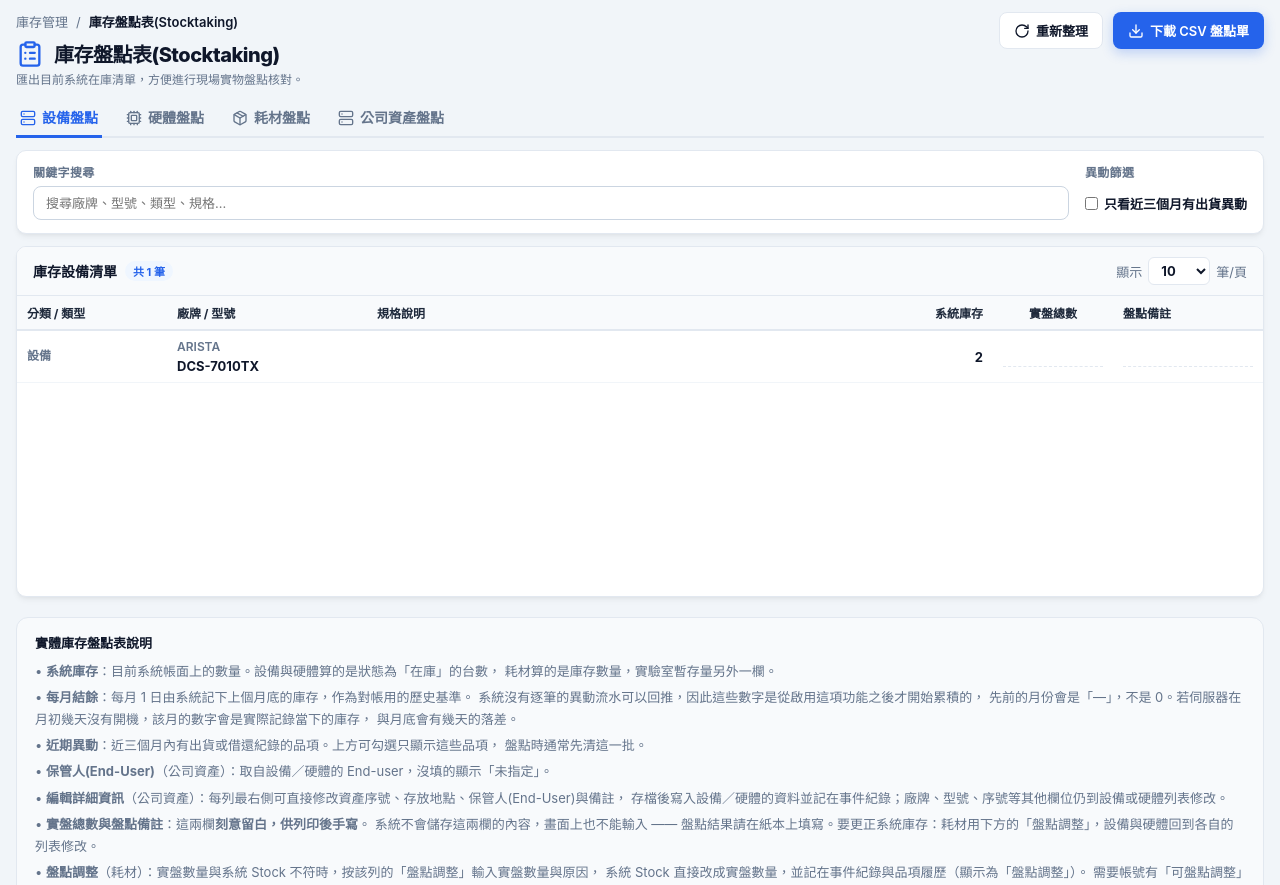
Test: 公司資產盤點：編輯詳細資訊 › 儲存：寫入資料庫、表格當場更新、事件紀錄記下改了什麼
The image size is (1280, 885).
Click the text "公司資產盤點": (391,118) x1=338 y1=109 x2=444 y2=126
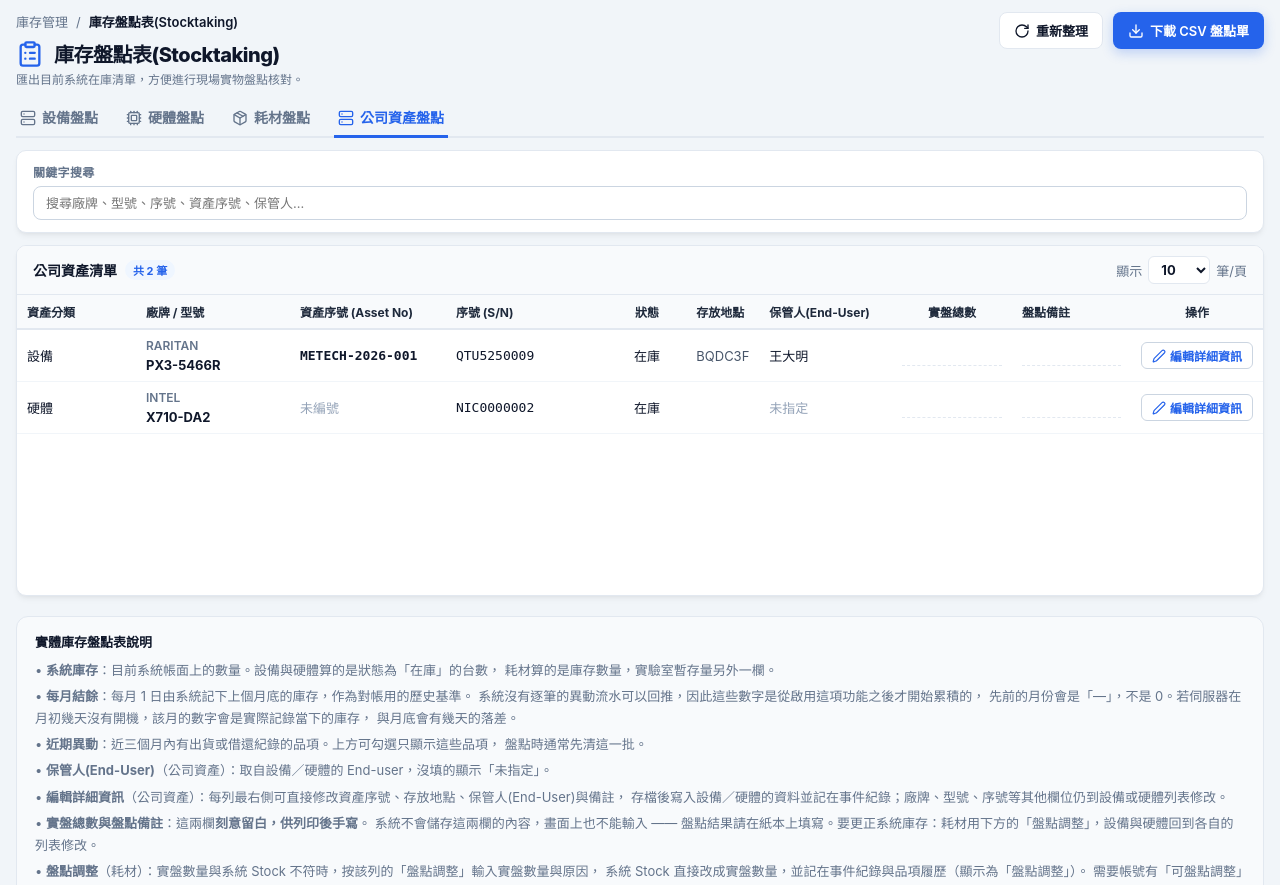
Check: the text "QTU5250009" is shown, box x1=446 y1=329 x2=608 y2=382
Click the button "編輯詳細資訊" in the row of "RARITAN": (1197,356) x1=1141 y1=342 x2=1253 y2=369
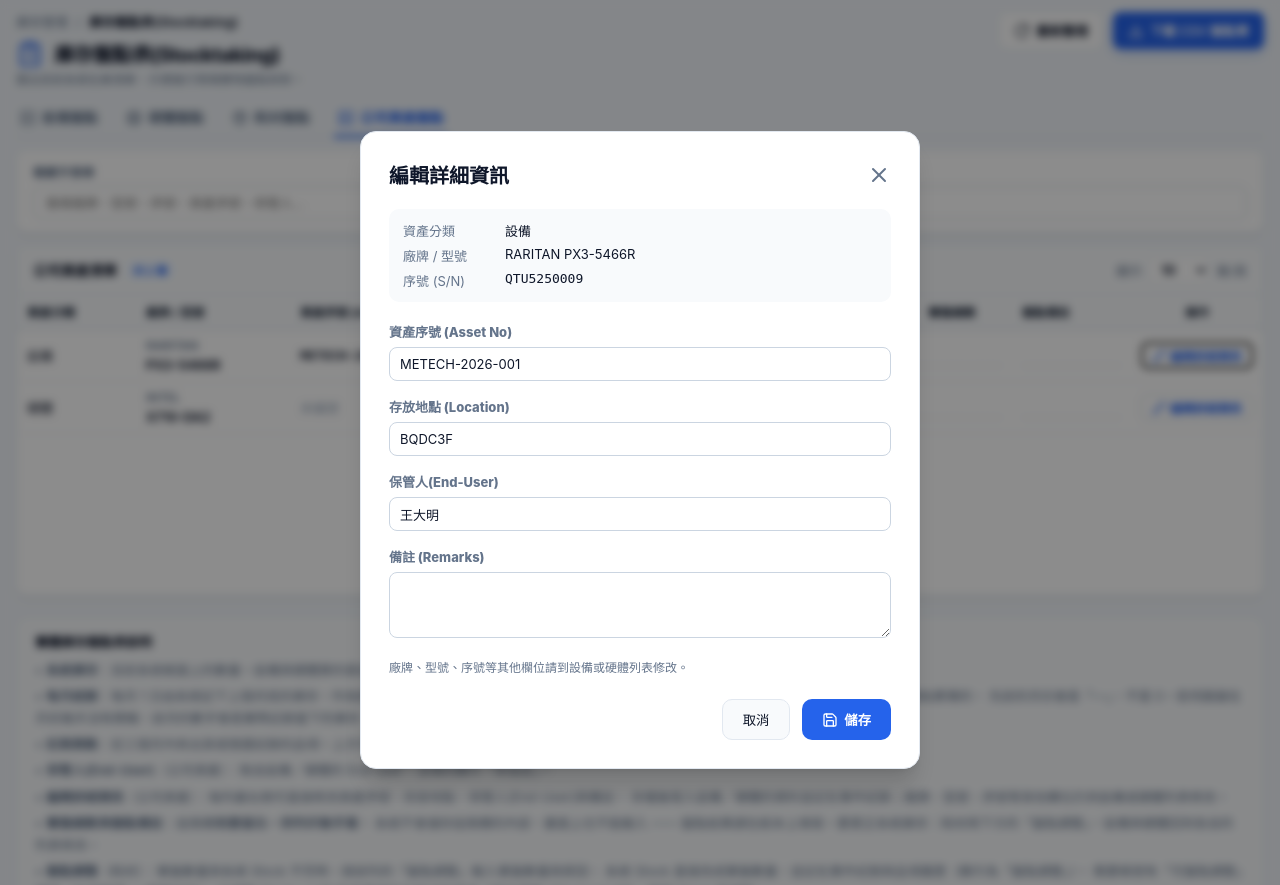
Replace the text in the field labelled "保管人(End-User)" with "陳小華": (640,514) x1=389 y1=497 x2=891 y2=531
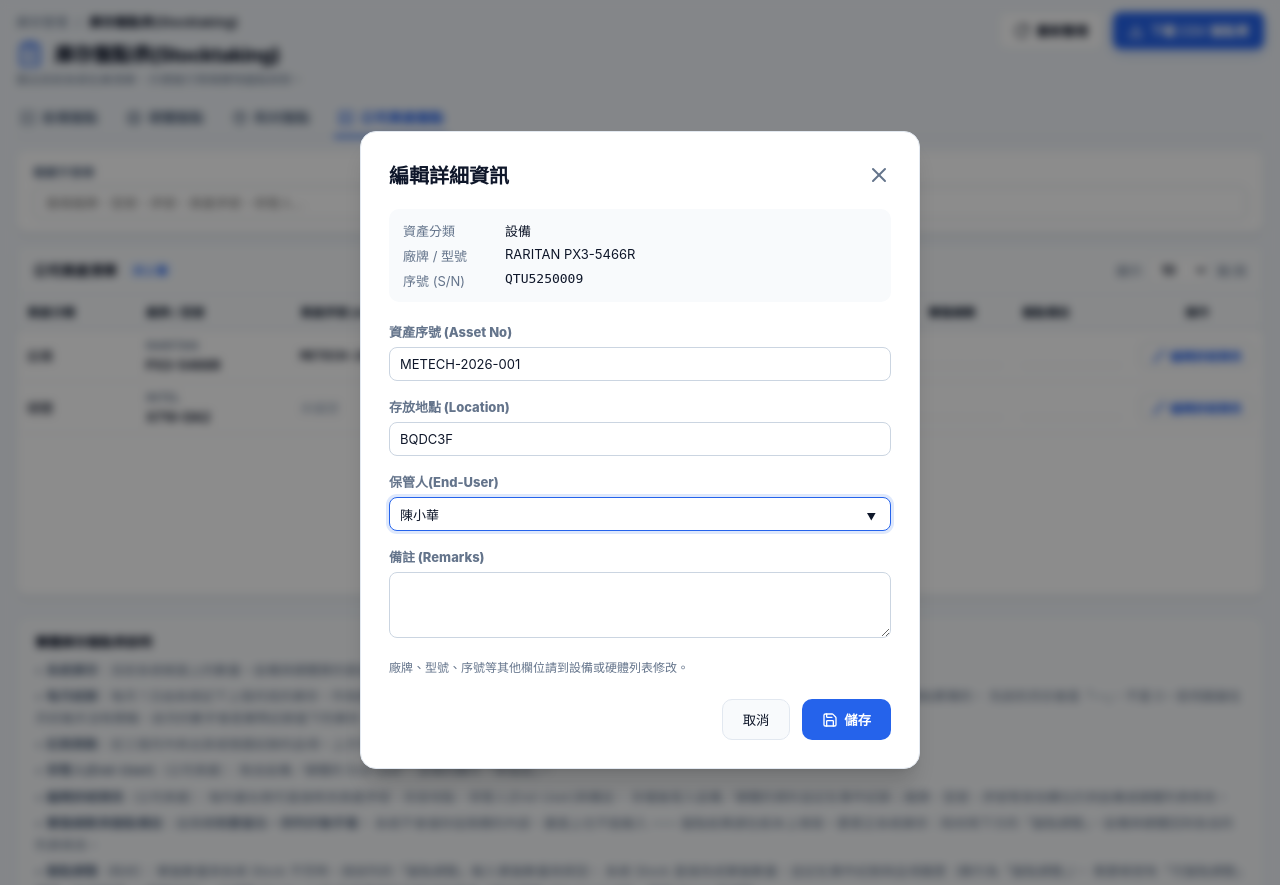
In the text box labelled "備註 (Remarks)": (640,605) x1=389 y1=572 x2=891 y2=638, type "盤點補登"
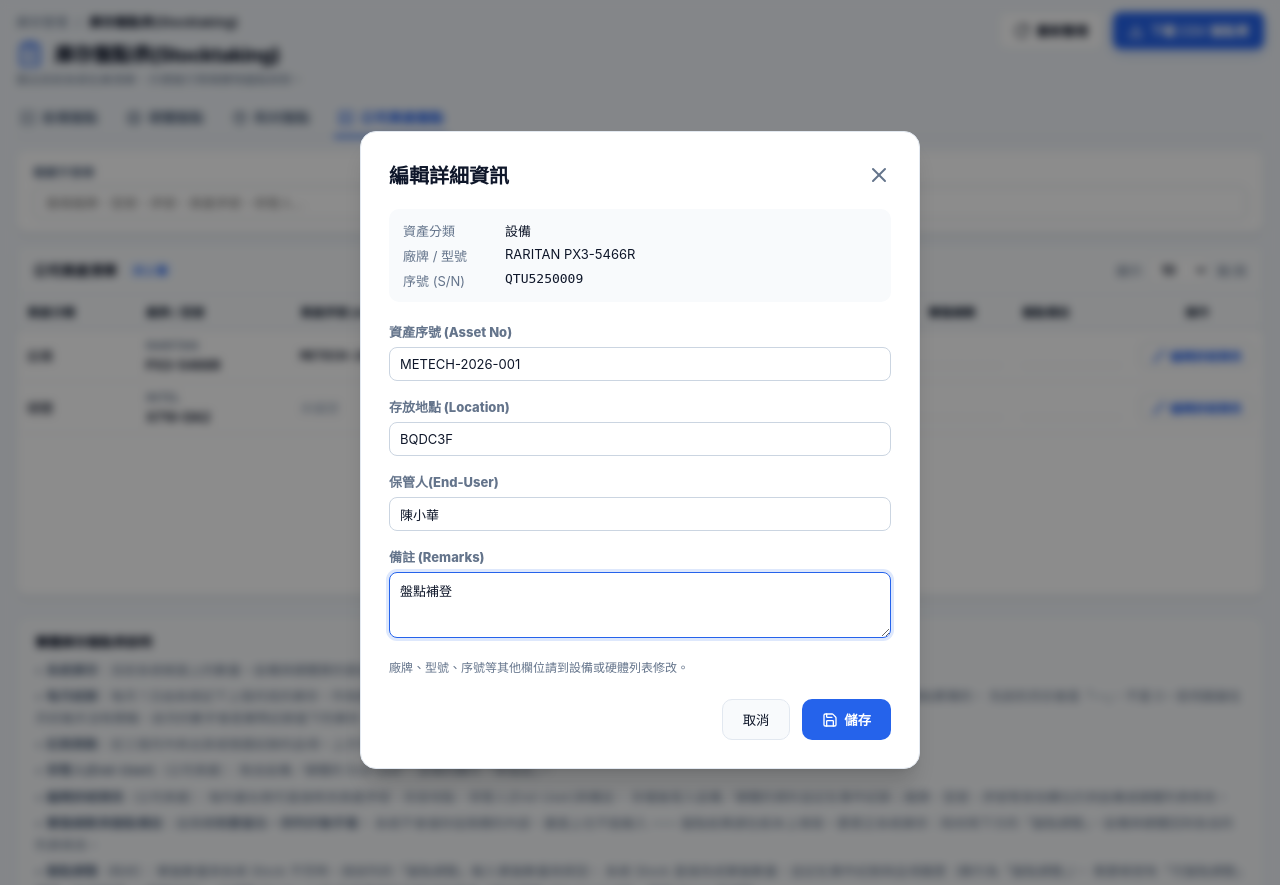
Click the button "儲存": (847,720) x1=802 y1=699 x2=891 y2=740
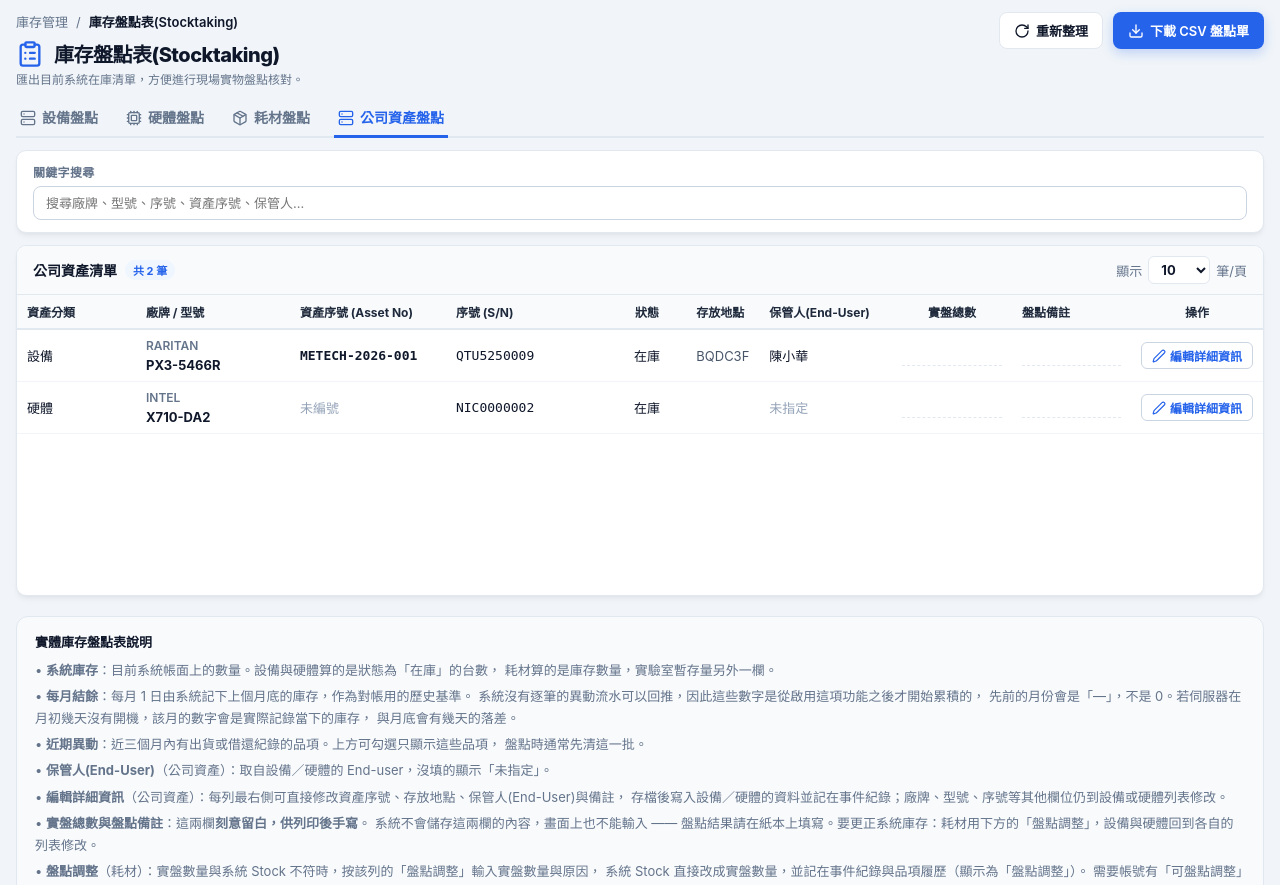
Check: the text "QTU5250009" is shown, box x1=446 y1=329 x2=608 y2=382
Check: the dialog is gone
Check: the text "陳小華" is shown, box x1=759 y1=329 x2=892 y2=382
